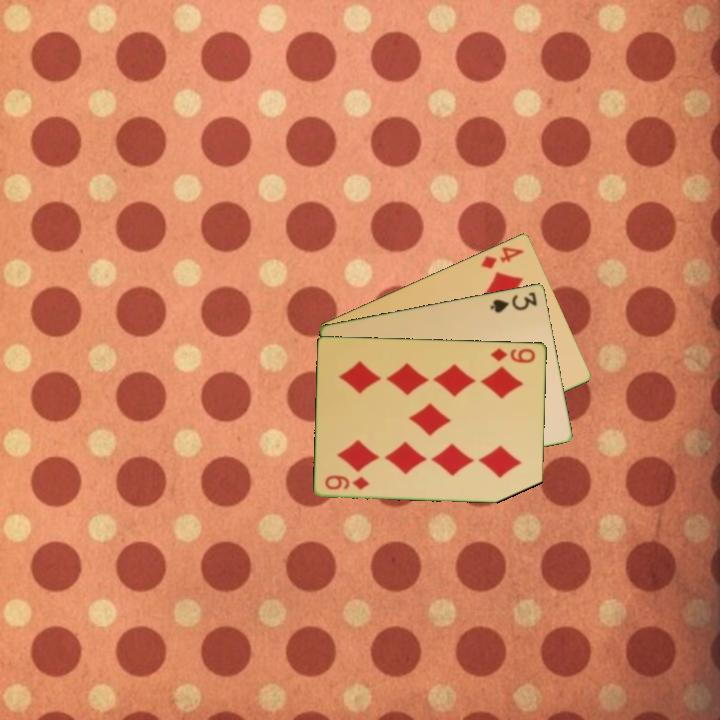3s: (487, 288, 540, 315)
4d: (477, 243, 527, 271)
9d: (488, 344, 538, 366), (322, 472, 372, 492)
